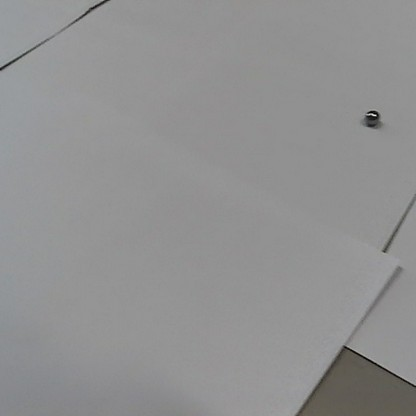ironball: (362, 106, 382, 126)
